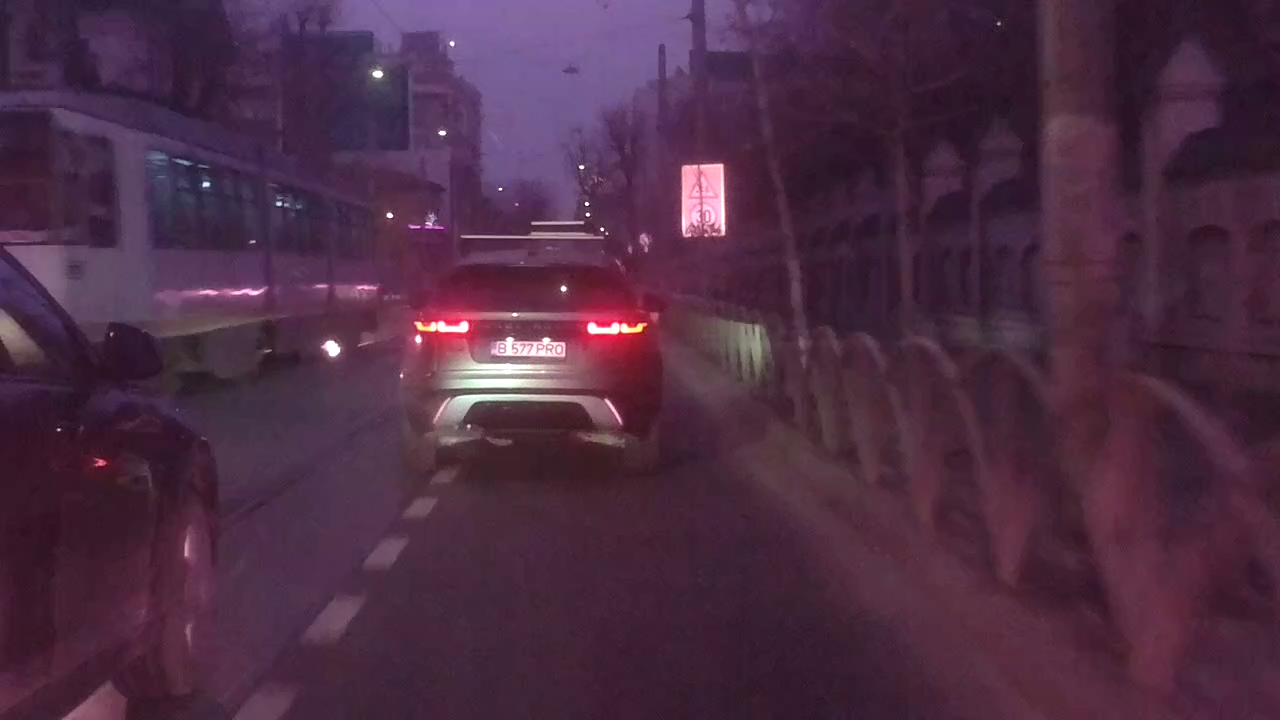license-plate: (487, 338, 567, 359)
